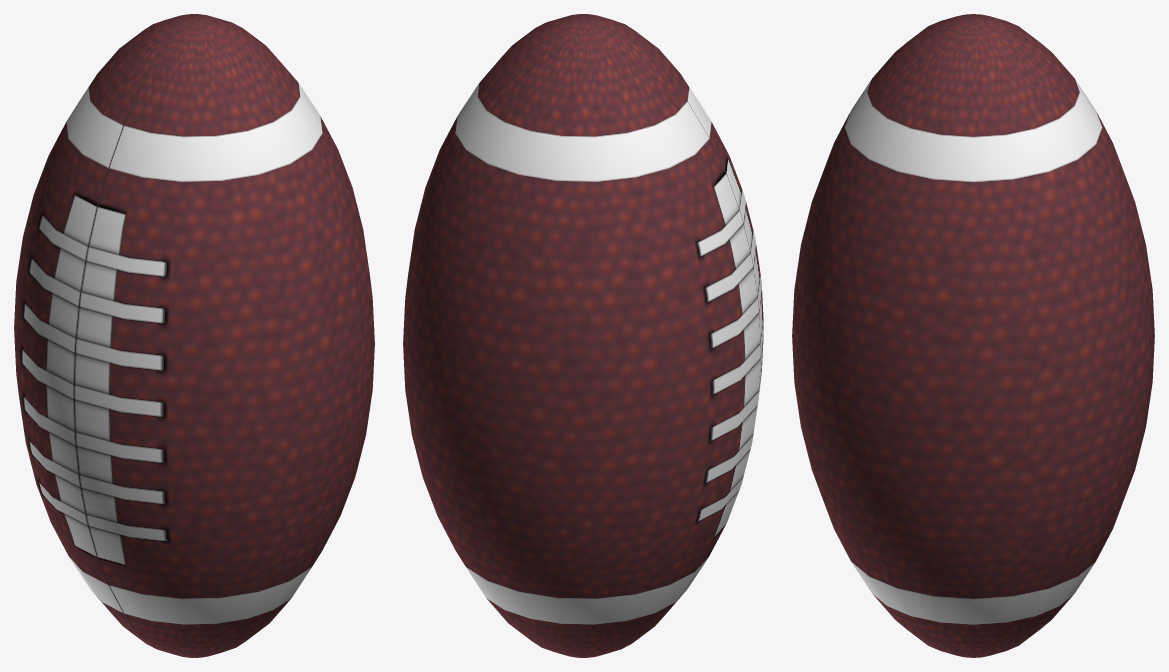
Rendered from rugbyball.fbx.
3 views of the same model, side by side, from view 1: azimuth 30°, elevation 25°; view 2: azimuth 150°, elevation 25°; view 3: azimuth 270°, elevation 25° (orthographic).
Parts seen in each view (by area): view 1: pSphere1; view 2: pSphere1; view 3: pSphere1.
Part boxes in pixels (bbox=[...]): pSphere1: bbox=[14, 14, 374, 657]; pSphere1: bbox=[403, 14, 763, 657]; pSphere1: bbox=[792, 14, 1154, 657].
Size of the model in its own units: 2 by 3.83 by 2.
